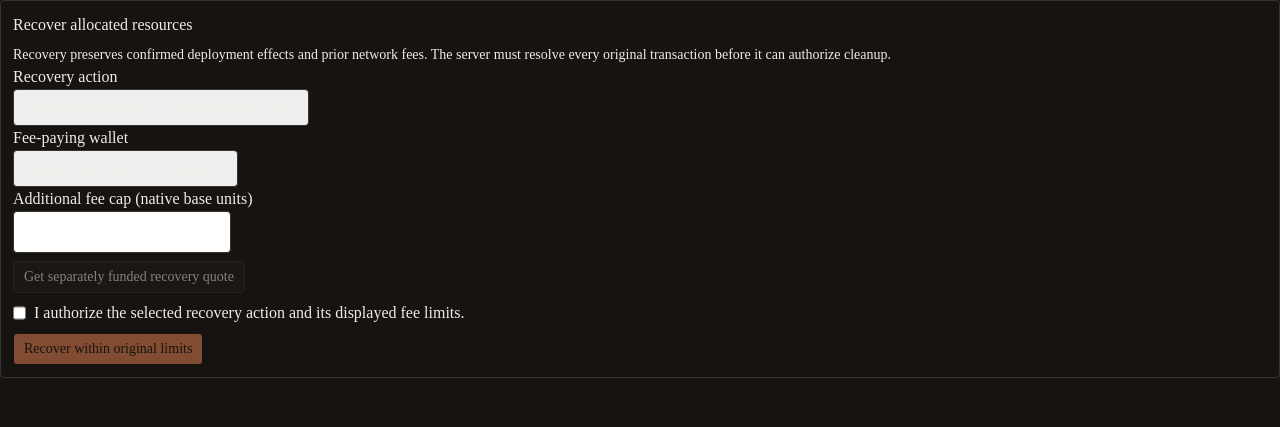
Scenario: does not send if the exact recovery request cannot be persisted
Click the checkbox. click: [20, 313]
box: [13,301,26,325]
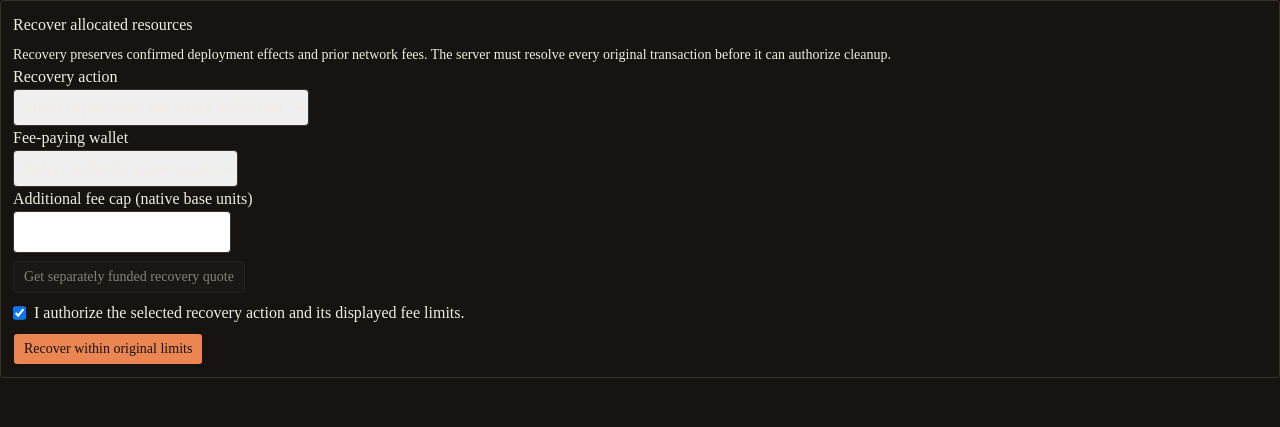
Click the button "Recover within original limits". click: [108, 349]
box: [13,333,203,365]
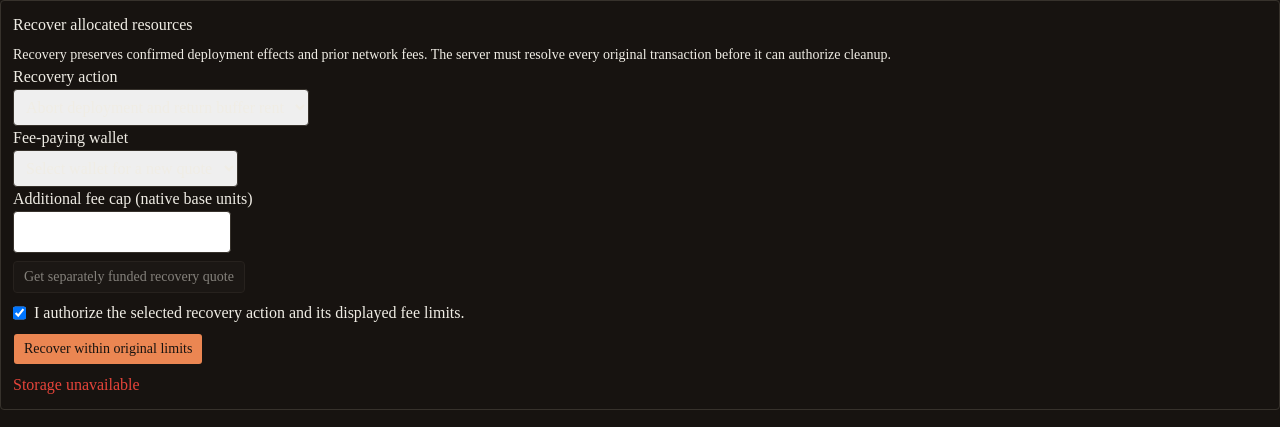
Expected: the message "Storage unavailable" is shown, [13,376,140,393]
